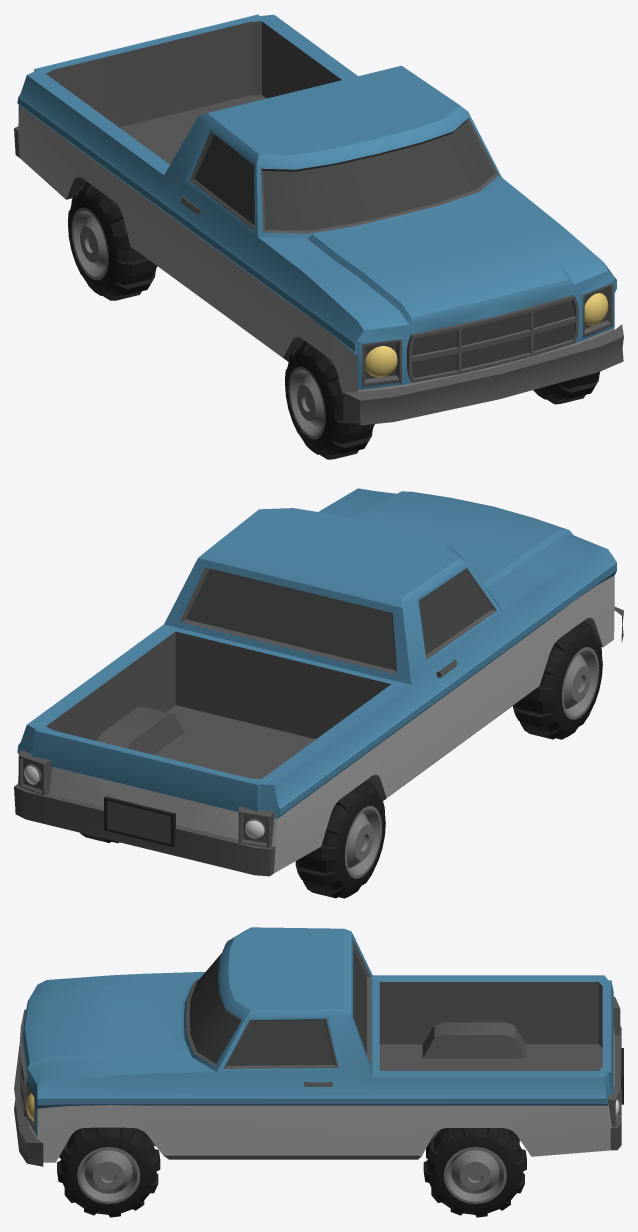
File: pickup.glb
3 views of the same model, one above another, from view 1: azimuth 30°, elevation 25°; view 2: azimuth 150°, elevation 25°; view 3: azimuth 270°, elevation 25° (orthographic). The views are drawn at different scales.
Visible parts, largest first — view 1: Pickup, BackWheels, FrontWheel_R, FrontWheel_L; view 2: Pickup, BackWheels, FrontWheel_R; view 3: Pickup, BackWheels, FrontWheel_L.
Part boxes in pixels (left/top/right/bottom): Pickup: left=14, top=14, right=623, bottom=425; BackWheels: left=68, top=182, right=157, bottom=300; FrontWheel_R: left=285, top=340, right=374, bottom=459; FrontWheel_L: left=533, top=372, right=599, bottom=404; Pickup: left=14, top=488, right=623, bottom=876; BackWheels: left=80, top=780, right=385, bottom=898; FrontWheel_R: left=512, top=621, right=602, bottom=739; Pickup: left=14, top=927, right=623, bottom=1166; BackWheels: left=423, top=1128, right=526, bottom=1217; FrontWheel_L: left=57, top=1127, right=160, bottom=1217.
Bounding box in the file's own units: 2.31 × 1.85 × 5.18.
3 materials, 1 textured.
